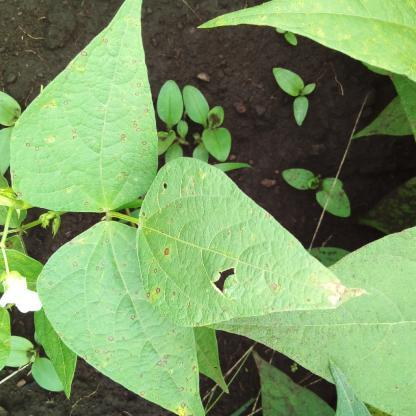Beans_Angular_LeafSpot: (147, 166, 372, 330), (6, 9, 181, 209), (39, 218, 206, 416)
